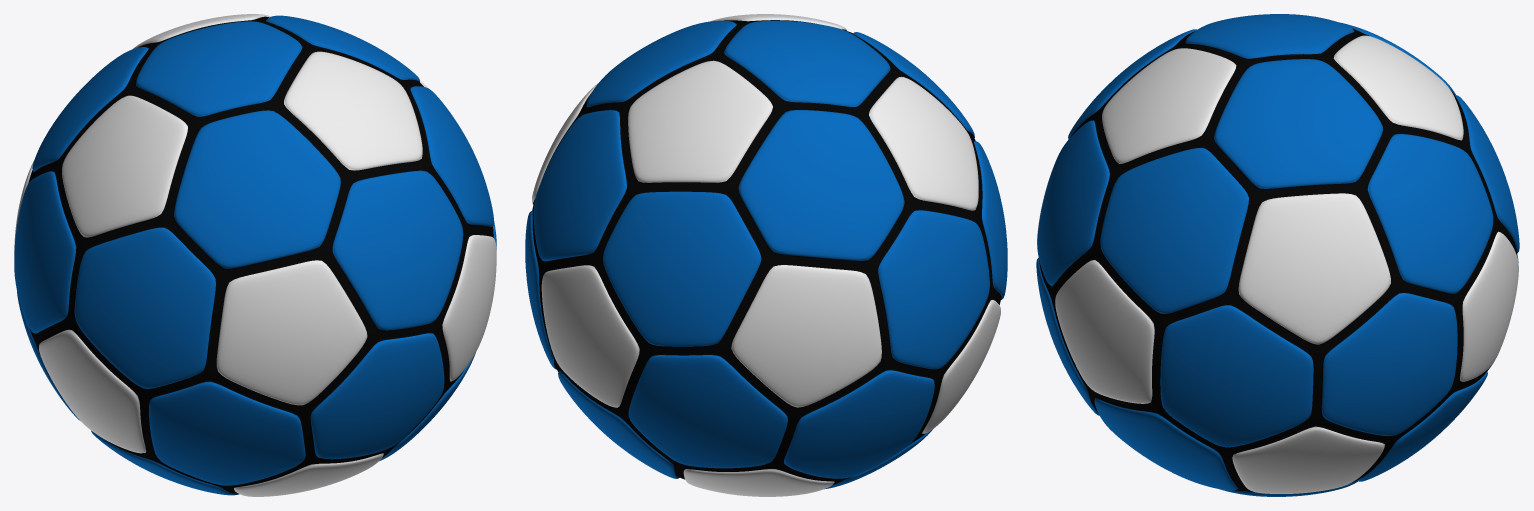
File: Sketchfab_2022_04_16_22_13_07.fbx
The picture shows the model from 3 angles, left to right: view 1: azimuth 30°, elevation 25°; view 2: azimuth 150°, elevation 25°; view 3: azimuth 270°, elevation 25°; orthographic projection.
Parts seen in each view (by area): view 1: Icosphere; view 2: Icosphere; view 3: Icosphere.
Part boxes in pixels (x1,y1,x2,y2): Icosphere: (14,14,496,496); Icosphere: (525,14,1007,496); Icosphere: (1036,14,1519,496).
Bounding box in the file's own units: 168 × 168 × 167.
